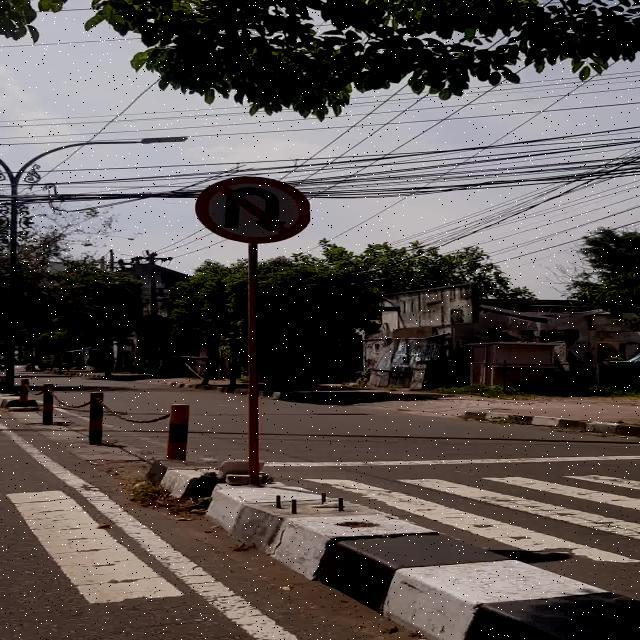Dilarang Putar Balik: (194, 176, 312, 243)
